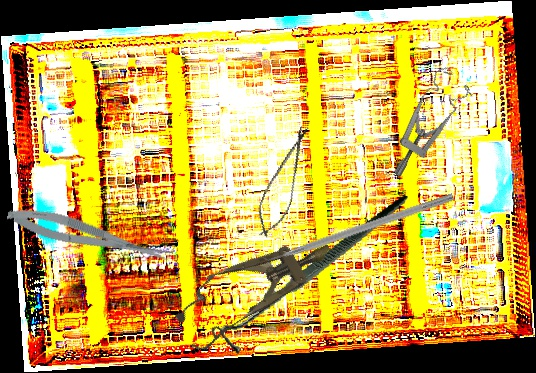Chopper: (252, 182, 455, 269)
Hook Surgical: (201, 193, 431, 358)
Micro Scissor: (4, 200, 175, 273), (249, 120, 318, 243)
Speculum: (165, 217, 346, 359), (360, 61, 488, 178)
